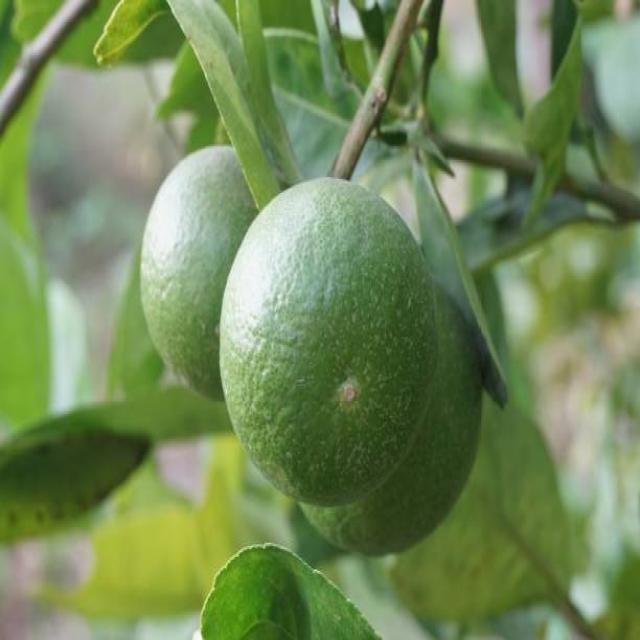Unripe: (216, 176, 439, 507)
